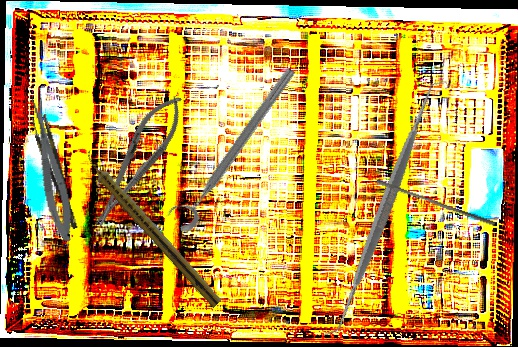Fixation Ring: (162, 57, 301, 237)
Handpiece: (78, 148, 226, 309)
Micro Scissor: (26, 95, 78, 244)
Needle Holder: (81, 86, 194, 235)
Pusher: (373, 178, 499, 227)
Spatula Surgical: (256, 79, 512, 338)
Tissue Forceps: (30, 113, 79, 233)
